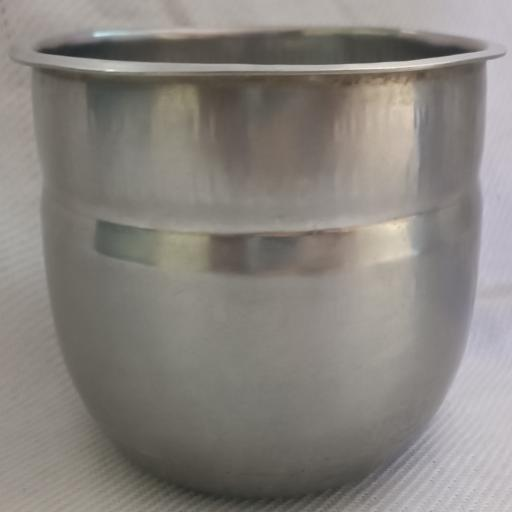vessel: (12, 29, 504, 496)
